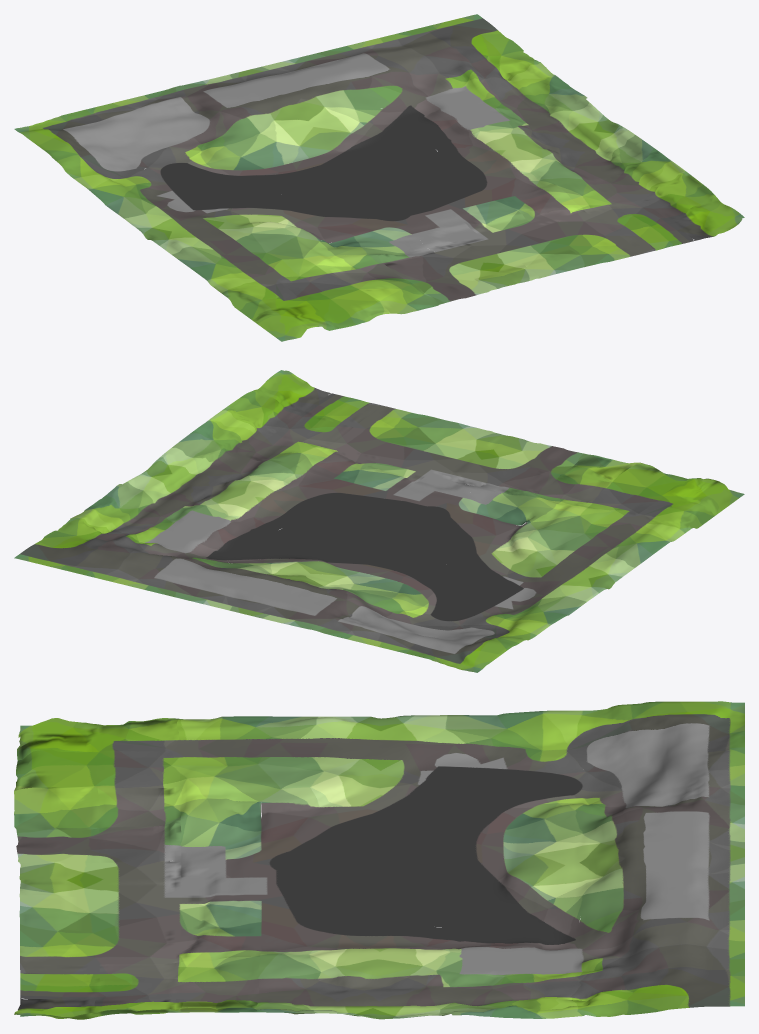
Rendered from bmzTerrain2.fbx.
The picture shows the model from 3 angles, top to bottom: view 1: azimuth 30°, elevation 25°; view 2: azimuth 150°, elevation 25°; view 3: azimuth 270°, elevation 25°; orthographic projection. The views are drawn at different scales.
Visible parts, largest first — view 1: Landscape_0; view 2: Landscape_0; view 3: Landscape_0.
Boxes of the visible parts, x1,y1,x2,y2 form: Landscape_0: (14,14,744,341); Landscape_0: (14,370,744,672); Landscape_0: (14,701,744,1019).
Bounding box in the file's own units: 10160 × 497 × 10167.
